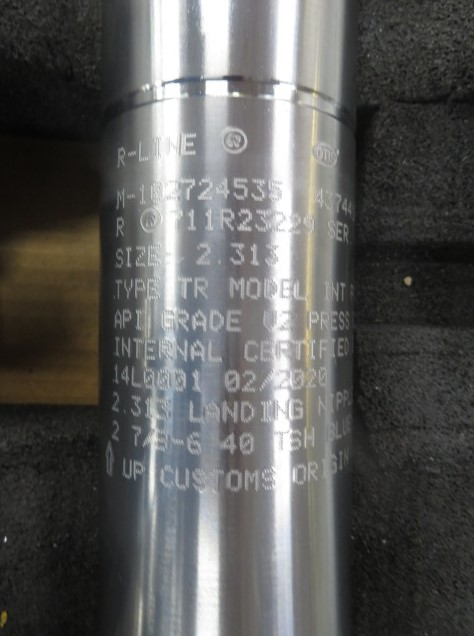character: (239, 466, 261, 495), (263, 464, 282, 495), (220, 401, 241, 429), (187, 429, 205, 461), (154, 396, 175, 423), (203, 400, 224, 427), (224, 307, 242, 338), (205, 307, 224, 336), (290, 279, 311, 305), (190, 305, 208, 335), (188, 368, 206, 398), (219, 430, 239, 457), (249, 176, 267, 205), (230, 176, 249, 203), (227, 240, 246, 267), (275, 339, 294, 366), (173, 464, 190, 494), (188, 338, 206, 366), (190, 465, 206, 496), (261, 274, 278, 303), (173, 337, 190, 366), (291, 459, 308, 488), (182, 132, 200, 159), (236, 208, 254, 235), (206, 338, 224, 365), (227, 468, 245, 495), (179, 176, 196, 204), (257, 337, 274, 365), (240, 401, 257, 429), (128, 456, 145, 484), (144, 244, 163, 269), (185, 401, 204, 426), (194, 243, 212, 269), (208, 466, 223, 497), (243, 338, 259, 367), (254, 207, 272, 232), (192, 277, 210, 302), (265, 242, 281, 270), (177, 275, 193, 303), (262, 307, 278, 335), (302, 214, 319, 240), (146, 275, 163, 301), (273, 400, 292, 423), (171, 367, 186, 396), (268, 179, 286, 203), (245, 276, 261, 303), (241, 371, 257, 398), (240, 432, 258, 456), (300, 424, 316, 451), (168, 209, 185, 234), (157, 340, 174, 365), (223, 369, 240, 394), (216, 176, 231, 204), (219, 207, 235, 233), (155, 369, 173, 392), (164, 135, 181, 159), (279, 309, 296, 333), (230, 275, 245, 302), (198, 178, 212, 206), (164, 178, 181, 201), (149, 180, 164, 206), (184, 209, 199, 235), (271, 210, 286, 236), (160, 309, 176, 333), (288, 397, 304, 421), (202, 208, 216, 235), (261, 398, 275, 425), (288, 426, 302, 453), (135, 137, 150, 162), (175, 311, 190, 336), (316, 367, 333, 389), (120, 456, 136, 479), (278, 277, 292, 303), (130, 335, 143, 363), (294, 337, 308, 363), (293, 367, 307, 393), (161, 464, 174, 492), (249, 244, 262, 271), (112, 246, 125, 272), (144, 338, 157, 364), (114, 186, 126, 214), (288, 213, 302, 237), (130, 367, 144, 391), (276, 371, 292, 392), (140, 368, 155, 390), (275, 430, 290, 452), (120, 336, 132, 363), (114, 147, 128, 170), (151, 134, 163, 160), (124, 244, 136, 270), (134, 244, 146, 270), (122, 278, 136, 300), (307, 462, 321, 484), (113, 216, 126, 239), (133, 308, 145, 332), (307, 338, 319, 362), (130, 395, 142, 419), (135, 183, 148, 204), (134, 278, 146, 300), (123, 309, 134, 333), (306, 367, 316, 393), (111, 336, 121, 361), (112, 308, 123, 330), (112, 278, 123, 299), (144, 400, 155, 421)
